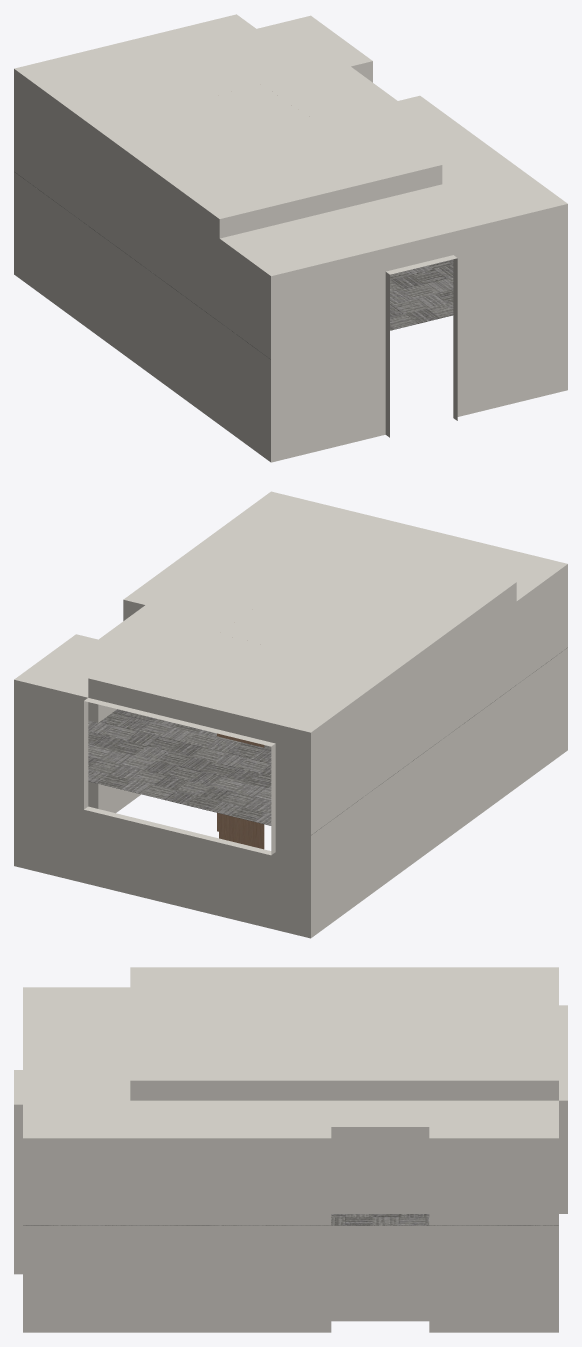
File: hostel-compress-new.glb
3 views of the same model, one above another, from view 1: azimuth 30°, elevation 25°; view 2: azimuth 150°, elevation 25°; view 3: azimuth 270°, elevation 25° (orthographic). The views are drawn at different scales.
Visible parts, largest first — view 1: wall, carpet; view 2: wall, carpet, wardrobe; view 3: wall, carpet.
Part boxes in pixels (left/top/right/bottom): wall: left=14, top=14, right=567, bottom=462; carpet: left=15, top=172, right=453, bottom=359; wall: left=14, top=491, right=567, bottom=938; carpet: left=88, top=647, right=567, bottom=835; wardrobe: left=217, top=733, right=264, bottom=849; wall: left=14, top=967, right=567, bottom=1332; carpet: left=23, top=1214, right=558, bottom=1225.
Bounding box in the file's own units: 131076 × 86833 × 203260.
9 materials, 4 textured.
